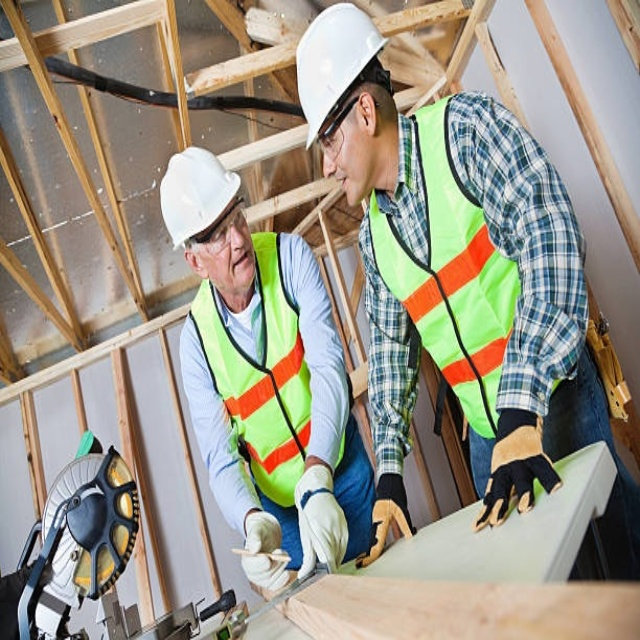Gafas: (190, 193, 246, 254), (318, 93, 361, 157)
Guantes: (471, 407, 562, 526), (296, 461, 346, 575), (356, 479, 415, 567), (239, 508, 292, 593)
Sin_mascara: (225, 243, 254, 285), (333, 168, 361, 207)
